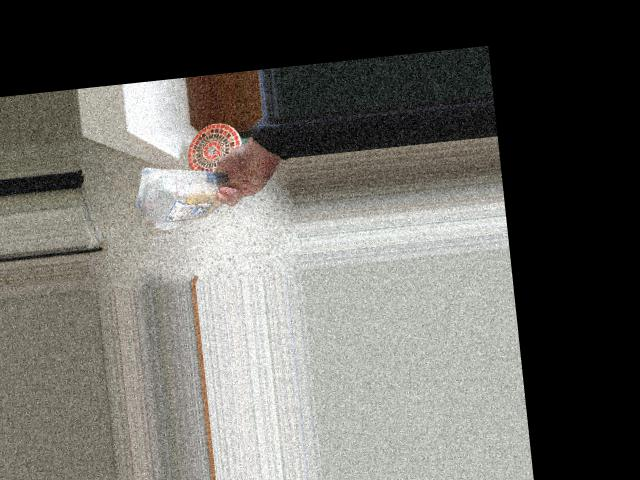cheese: (131, 164, 230, 226)
